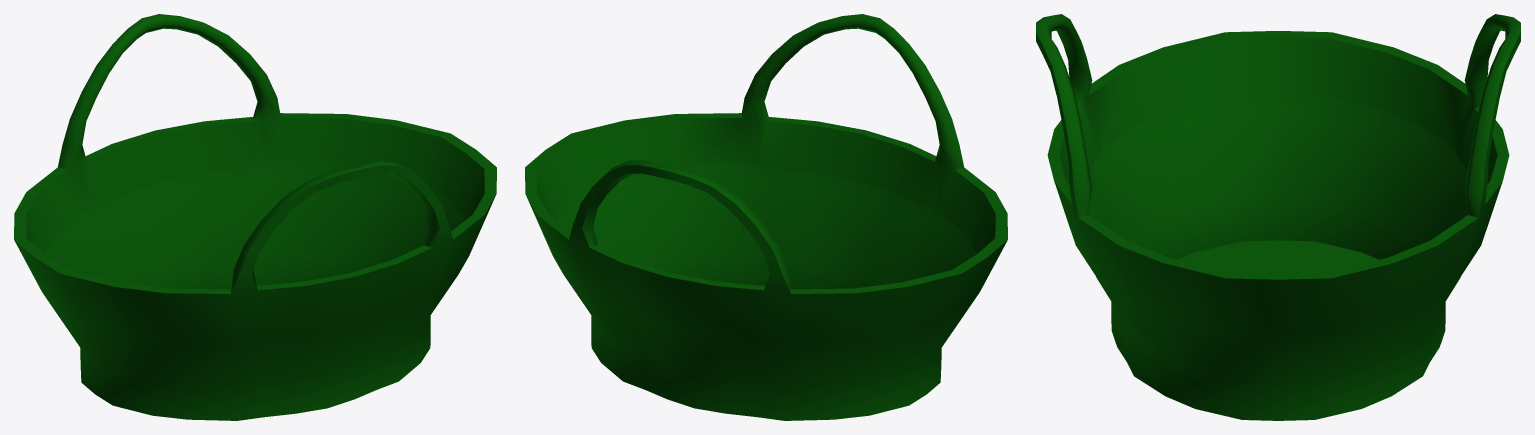
Rendered from hamper01.FBX.
3 views of the same model, side by side, from view 1: azimuth 30°, elevation 25°; view 2: azimuth 150°, elevation 25°; view 3: azimuth 270°, elevation 25° (orthographic). The views are drawn at different scales.
Visible parts, largest first — view 1: SM_hamper01_0; view 2: SM_hamper01_0; view 3: SM_hamper01_0.
Part boxes in pixels (x1,y1,x2,y2): SM_hamper01_0: (14, 14, 496, 420); SM_hamper01_0: (525, 14, 1007, 420); SM_hamper01_0: (1036, 14, 1520, 420).
Bounding box in the file's own units: 66.9 × 55.06 × 38.23.
